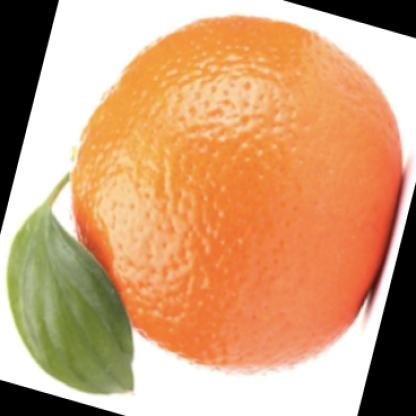fresh: (60, 16, 393, 374)
